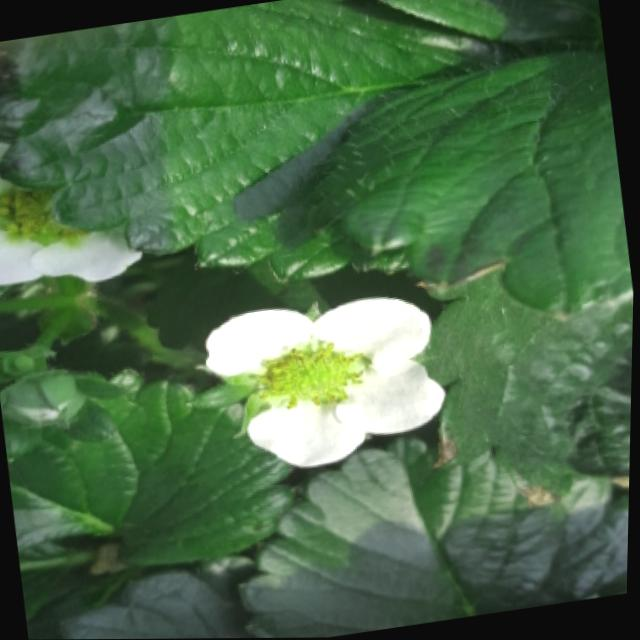Blossom Blight: (248, 334, 378, 414)
